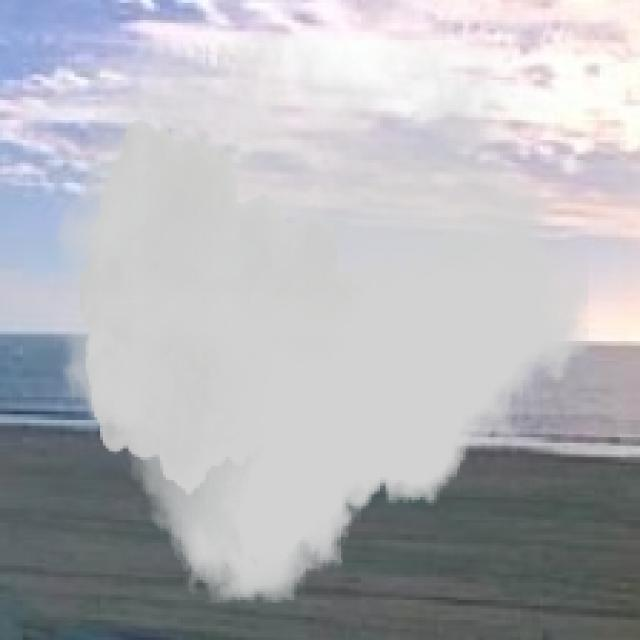smoke: (54, 34, 589, 603)
